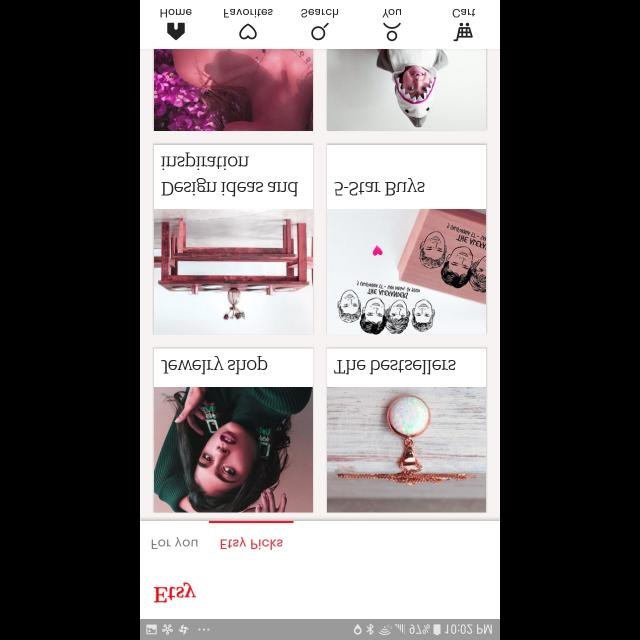icon: (453, 22, 472, 42), (383, 23, 401, 41), (167, 23, 185, 41), (312, 22, 328, 40), (239, 24, 257, 40)
image: (326, 208, 486, 334), (154, 208, 314, 334), (154, 386, 314, 512), (328, 386, 487, 512), (326, 50, 486, 130), (154, 50, 314, 130)
text: (162, 152, 298, 196), (160, 356, 268, 374), (334, 360, 456, 374), (335, 178, 425, 196), (221, 536, 283, 550), (154, 582, 196, 602), (152, 536, 198, 548), (224, 8, 272, 18), (302, 8, 338, 18), (160, 8, 192, 18), (452, 8, 476, 18), (382, 8, 402, 18)
uppertaskbar: (140, 618, 500, 640)
